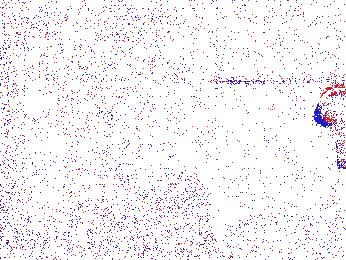flame jellyfish: (313, 85, 346, 170), (85, 184, 134, 230), (49, 184, 95, 232)
